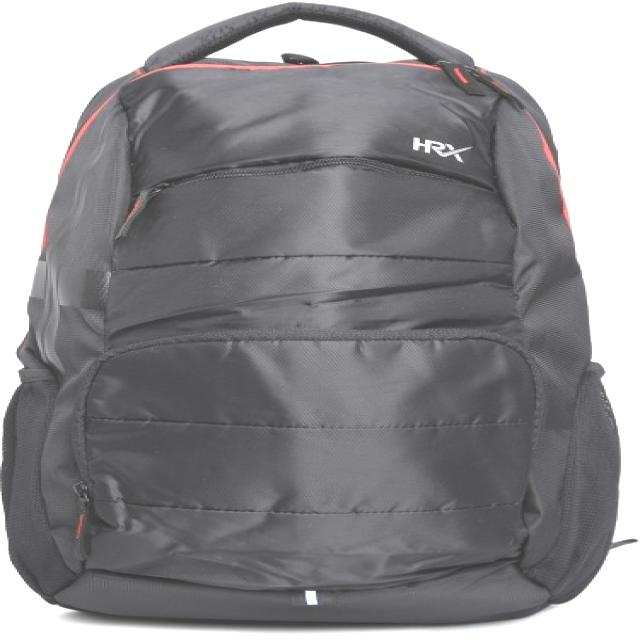backpack: (1, 2, 634, 626)
